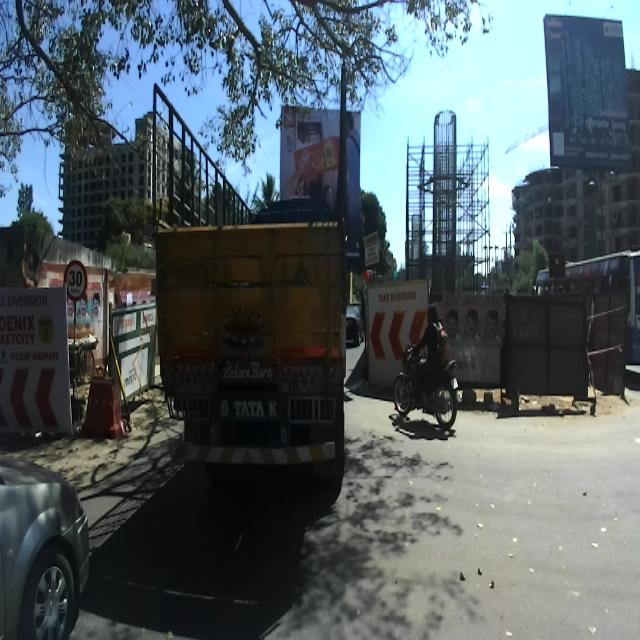motorcycle ahead at: (388, 346, 459, 430)
sign board ahead at: (62, 264, 89, 306)
truck ahead at: (145, 63, 355, 484)
